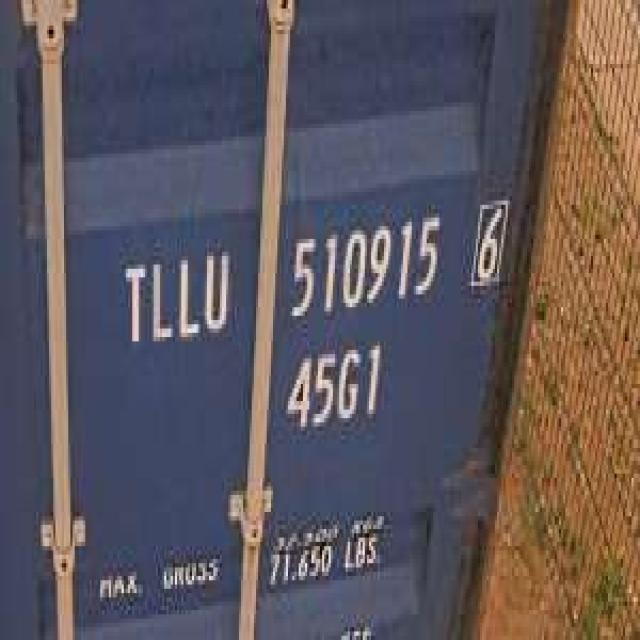dv: (467, 184, 510, 298)
owner: (118, 239, 232, 358)
serial: (281, 205, 446, 324)
size: (279, 337, 384, 435)
